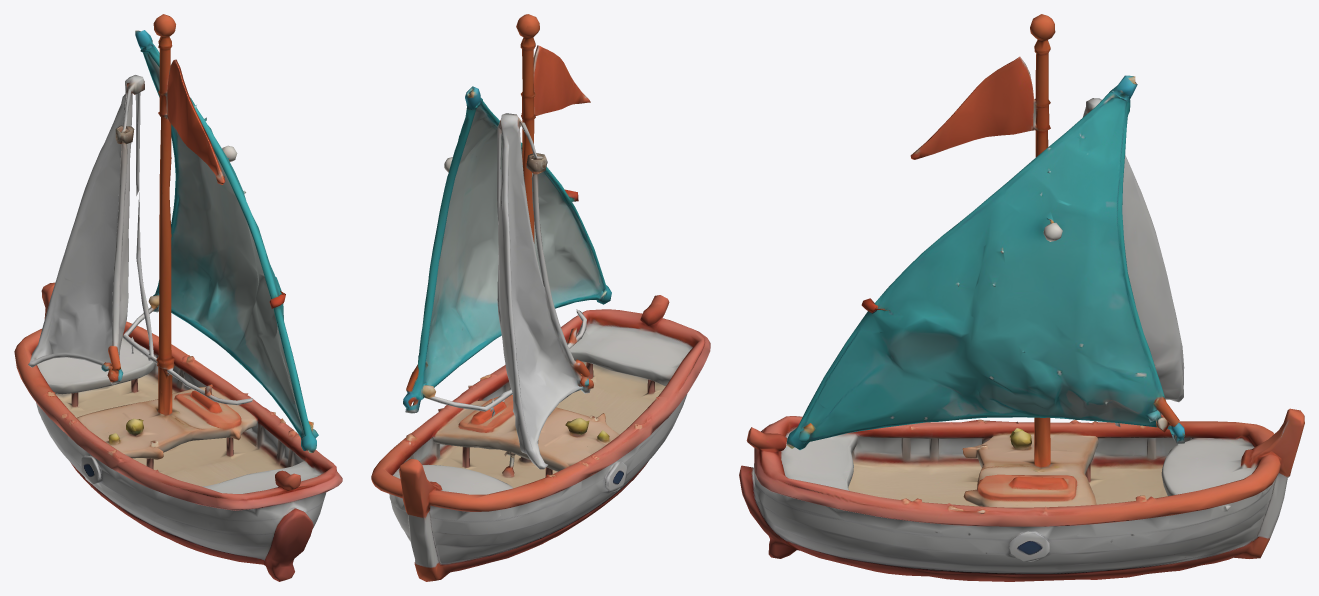
The model's file is sailboat.glb.
3 renders of one model, left to right at view 1: azimuth 30°, elevation 25°; view 2: azimuth 150°, elevation 25°; view 3: azimuth 270°, elevation 25°, orthographic. The views are drawn at different scales.
Visible parts, largest first — view 1: tripo_node_03a9f6f1-4a3e-4051-812c-2cd8ea102ace; view 2: tripo_node_03a9f6f1-4a3e-4051-812c-2cd8ea102ace; view 3: tripo_node_03a9f6f1-4a3e-4051-812c-2cd8ea102ace.
Part boxes in pixels (x1,y1,x2,y2): tripo_node_03a9f6f1-4a3e-4051-812c-2cd8ea102ace: (14,14,342,581); tripo_node_03a9f6f1-4a3e-4051-812c-2cd8ea102ace: (371,14,710,581); tripo_node_03a9f6f1-4a3e-4051-812c-2cd8ea102ace: (739,14,1304,581).
Bounding box in the file's own units: 0.3775 × 1 × 0.9494.
1 material, 1 textured.
